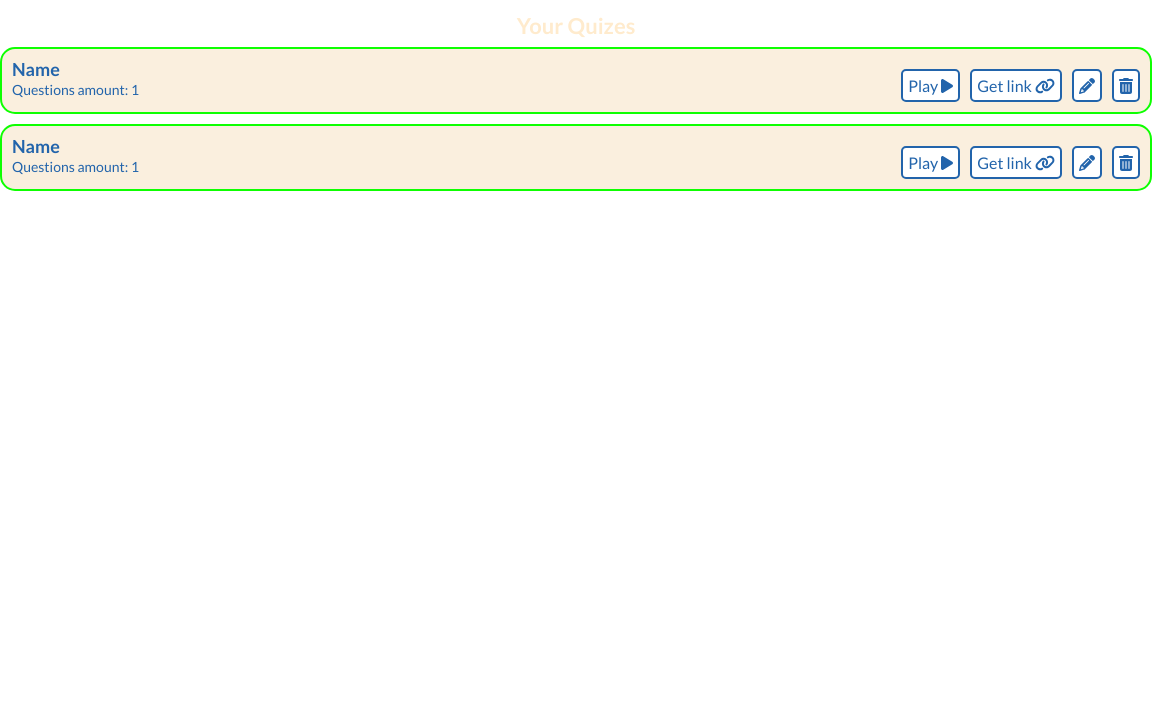
Test: edit modal tests › opening
Click the 1st button with test id "edit-btn".
click(1087, 86)  # box [1072, 69, 1102, 102]
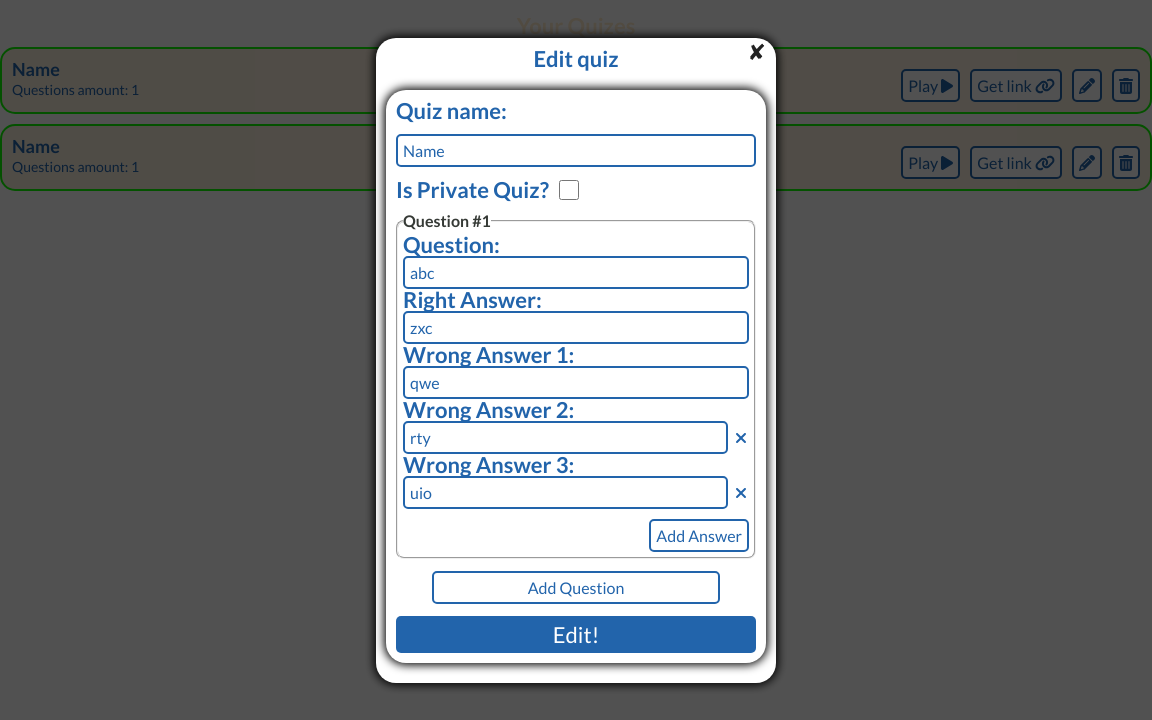
Result: the form with test id "edit-modal" is shown at [386, 90, 766, 662]
